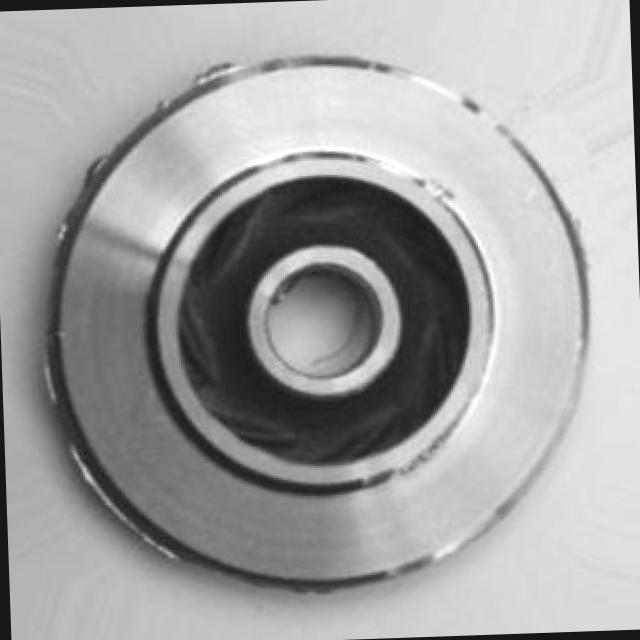Defect: (184, 58, 250, 88)
